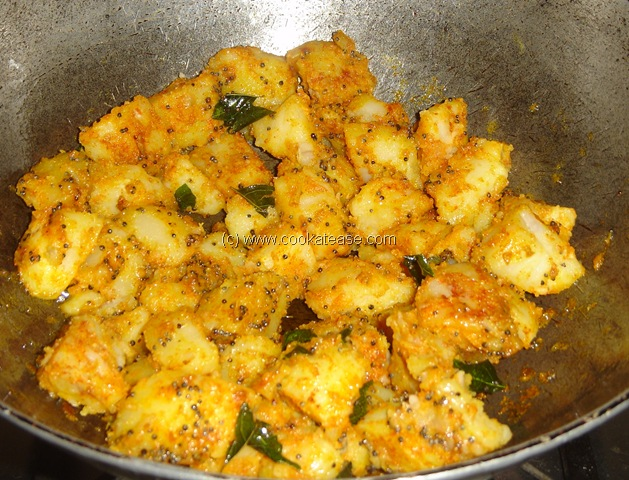boiled potatoes: (59, 81, 527, 431)
